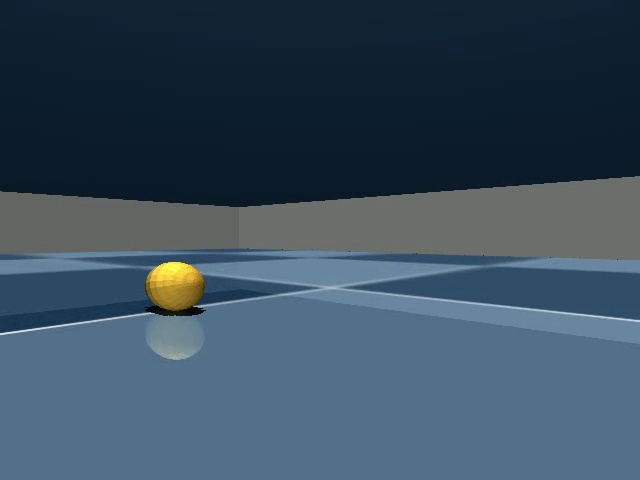lemon: (138, 256, 212, 320)
